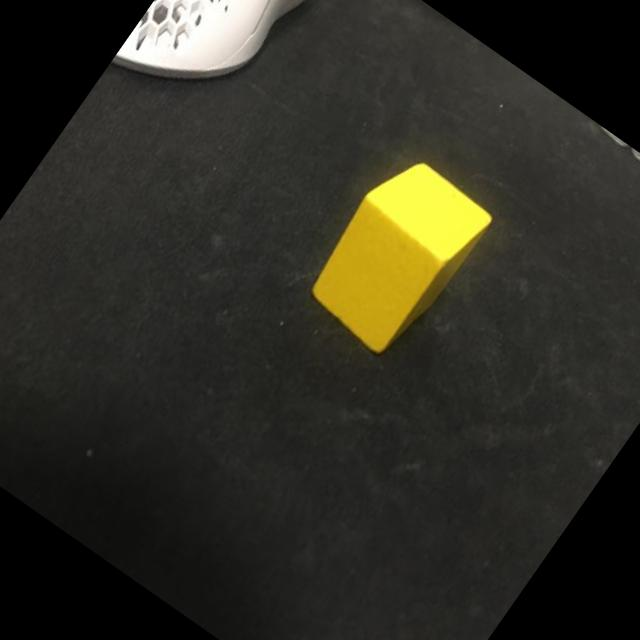yellow: (295, 146, 496, 363)
